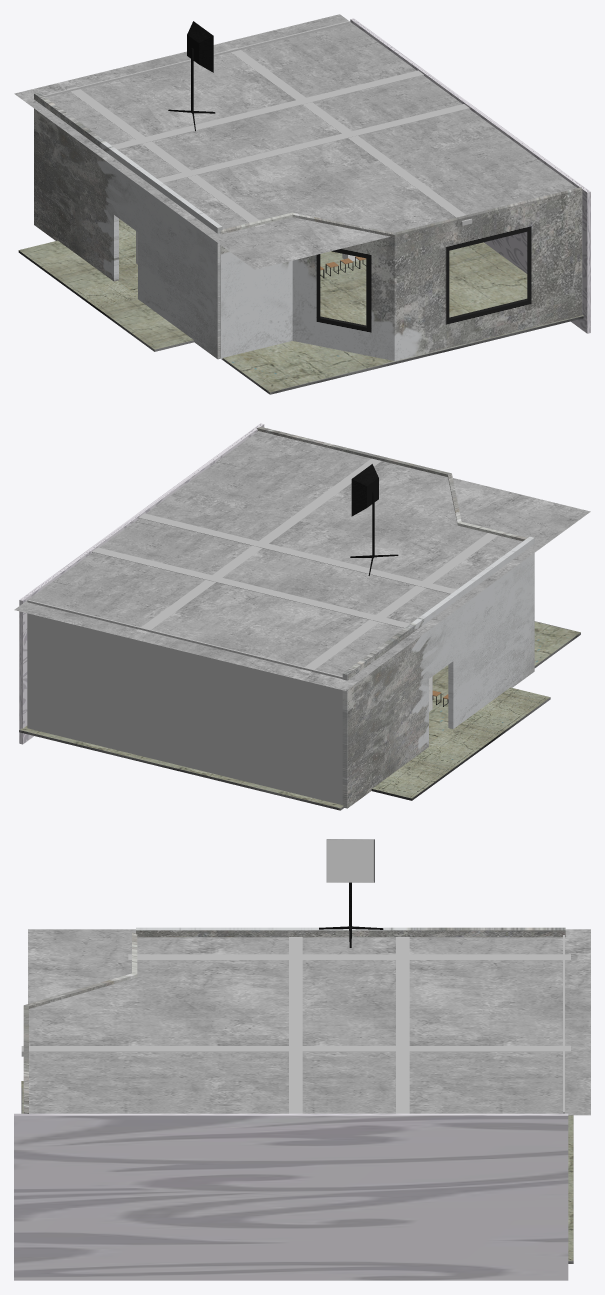
The model's file is StudioLightfbx.fbx.
3 renders of one model, top to bottom at view 1: azimuth 30°, elevation 25°; view 2: azimuth 150°, elevation 25°; view 3: azimuth 270°, elevation 25°, orthographic. The views are drawn at different scales.
Visible parts, largest first — view 1: Plane, Plane.001, JekRunway.001, JekRunway, Cube.007, Cube.003, Cube.010, Cube.002, Cube.012, Cube, Plane.003; view 2: Plane, Plane.003, JekRunway.001, JekRunway, Cube.007, Cube.003, Cube.002, Cube.010, Cube.012, Plane.001, Cube; view 3: Cube.007, Plane, JekRunway.001, Cube.003, Cube, Cube.010, Cube.002, Cube.012, Plane.001, JekRunway.
Boxes of the visible parts, box(x1,y1,x2,y2) form: Plane: box(14, 14, 576, 269); Plane.001: box(220, 187, 582, 360); JekRunway.001: box(34, 92, 222, 359); JekRunway: box(18, 219, 584, 394); Cube.007: box(350, 18, 590, 333); Cube.003: box(227, 47, 472, 225); Cube.010: box(157, 104, 469, 182); Cube.002: box(112, 70, 423, 149); Cube.012: box(67, 86, 265, 227); Cube: box(168, 21, 215, 131); Plane.003: box(43, 21, 349, 97); Plane: box(14, 431, 590, 690); Plane.003: box(27, 600, 342, 804); JekRunway.001: box(342, 536, 534, 808); JekRunway: box(19, 621, 580, 810); Cube.007: box(19, 423, 264, 744); Cube.003: box(136, 458, 381, 633); Cube.002: box(92, 547, 409, 627); Cube.010: box(138, 513, 456, 593); Cube.012: box(299, 533, 497, 673); Plane.001: box(257, 427, 526, 541); Cube: box(350, 464, 398, 575); Cube.007: box(14, 1113, 568, 1280); Plane: box(28, 929, 590, 1115); JekRunway.001: box(136, 927, 565, 937); Cube.003: box(21, 1046, 570, 1056); Cube: box(319, 839, 383, 947); Cube.010: box(289, 937, 302, 1113); Cube.002: box(396, 937, 409, 1113); Cube.012: box(128, 954, 570, 959); Plane.001: box(23, 932, 137, 1113); JekRunway: box(21, 1081, 573, 1263).
Size of the model in its own units: 2599 by 1782 by 3080.
